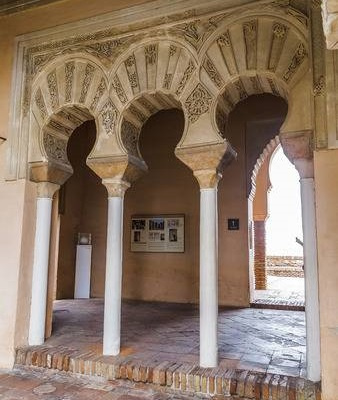arco-herradura: (208, 69, 301, 160), (113, 89, 196, 169), (35, 101, 107, 178)
